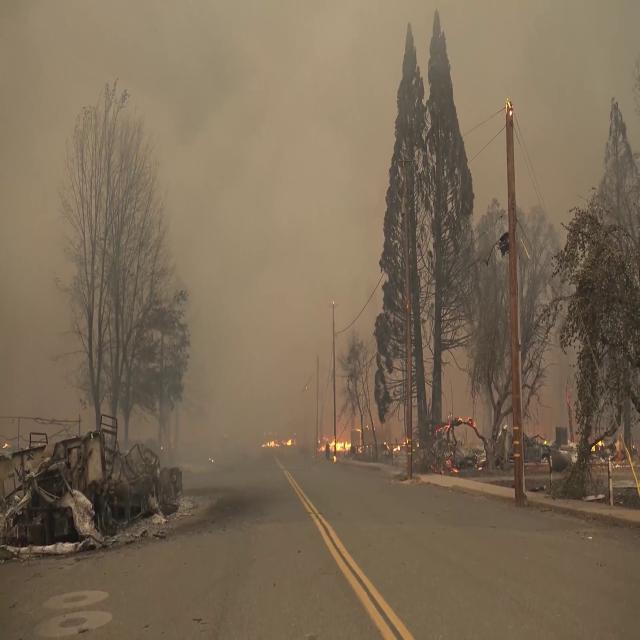Smoke: (190, 20, 339, 288)
